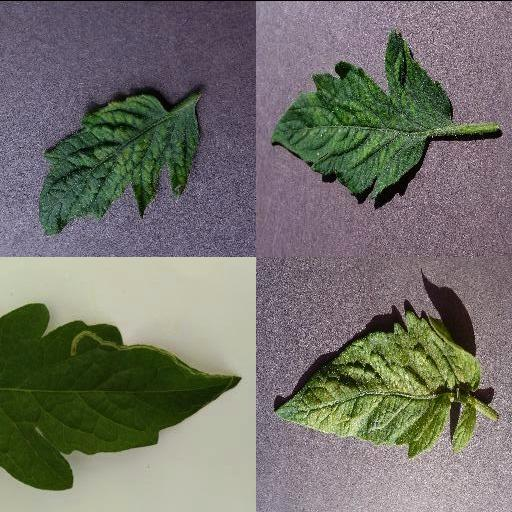Leaf Miner: (0, 302, 244, 490)
Mosaic Virus: (268, 25, 452, 197), (37, 89, 199, 233)
Spider Mites: (274, 311, 480, 457)
